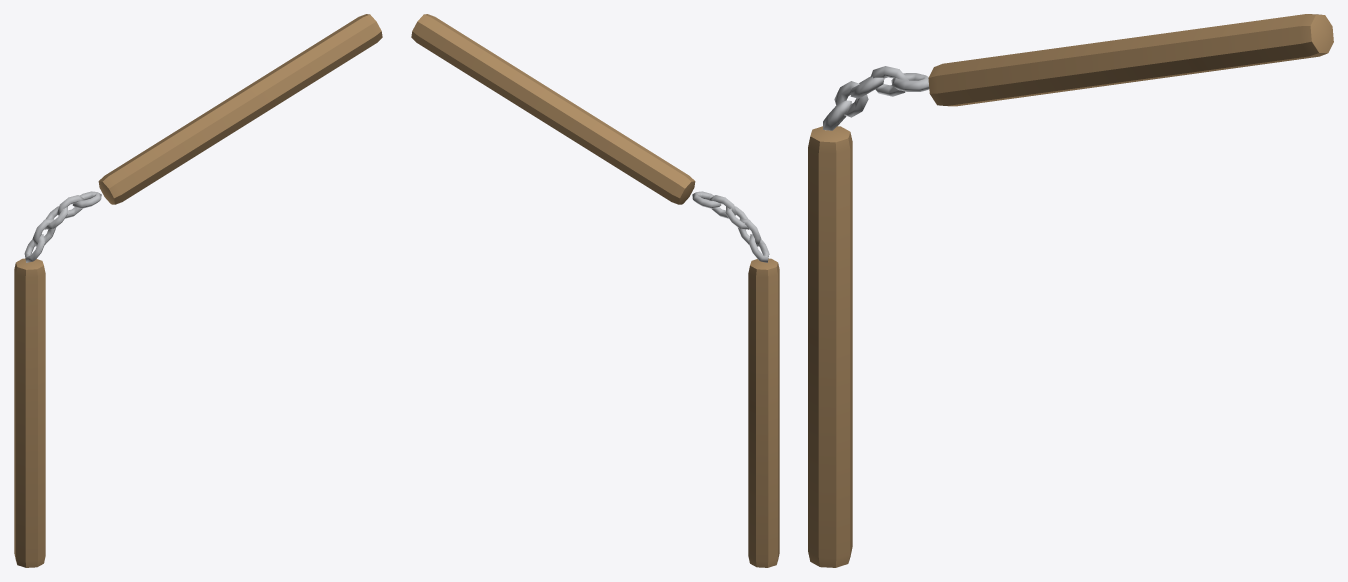
Rendered from nunchaku.glb.
3 renders of one model, left to right at view 1: azimuth 30°, elevation 25°; view 2: azimuth 150°, elevation 25°; view 3: azimuth 330°, elevation 25°, orthographic. The views are drawn at different scales.
Visible parts, largest first — view 1: nunchaku; view 2: nunchaku; view 3: nunchaku.
Boxes of the visible parts, x1,y1,x2,y2 form: nunchaku: [14, 14, 382, 567]; nunchaku: [411, 14, 779, 567]; nunchaku: [808, 14, 1333, 567].
Bounding box in the file's own units: 0.7771 × 0.9557 × 0.06.
